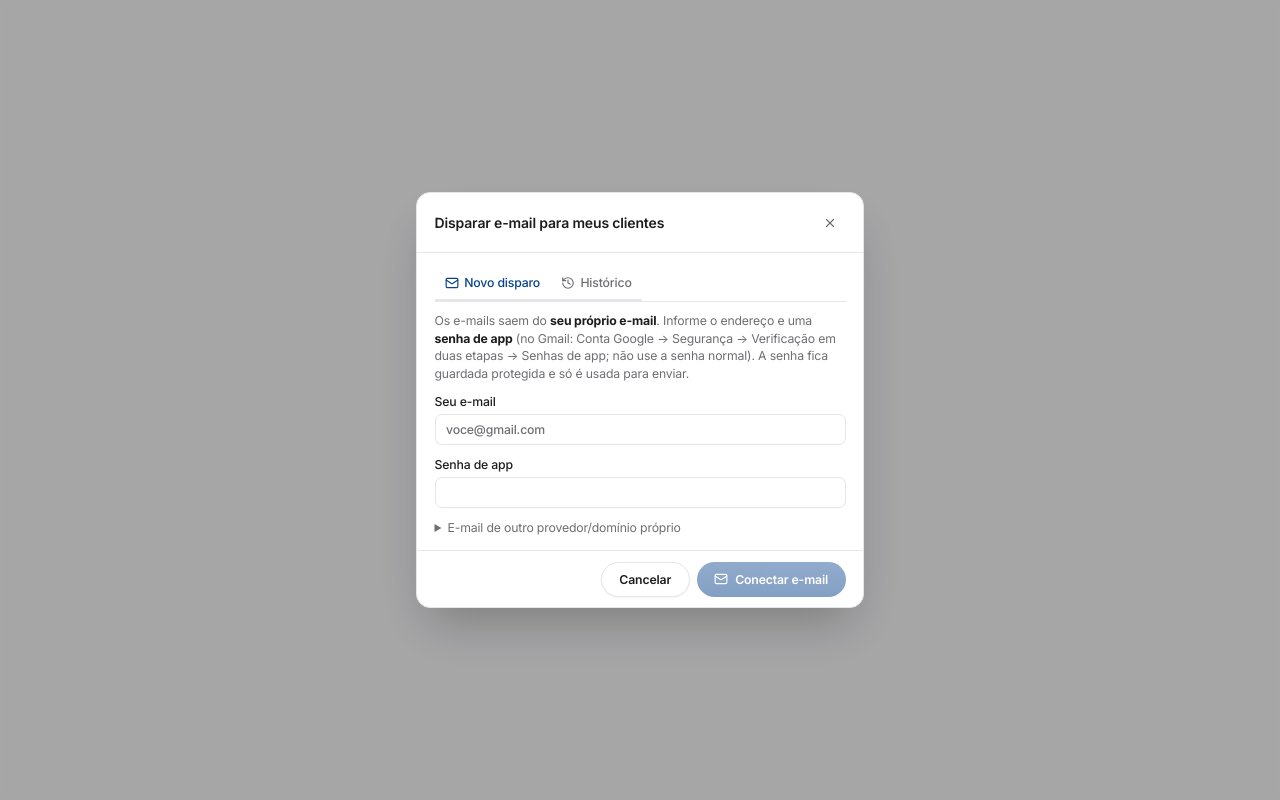
Test: DisparoEmailDialog › sem e-mail conectado pede o endereço e a senha de app, e conecta
The width and height of the screenshot is (1280, 800).
Type "ana@gmail.com" into the field labelled "Seu e-mail".
click(640, 430); type("ana@gmail.com")  # box [434, 414, 846, 445]
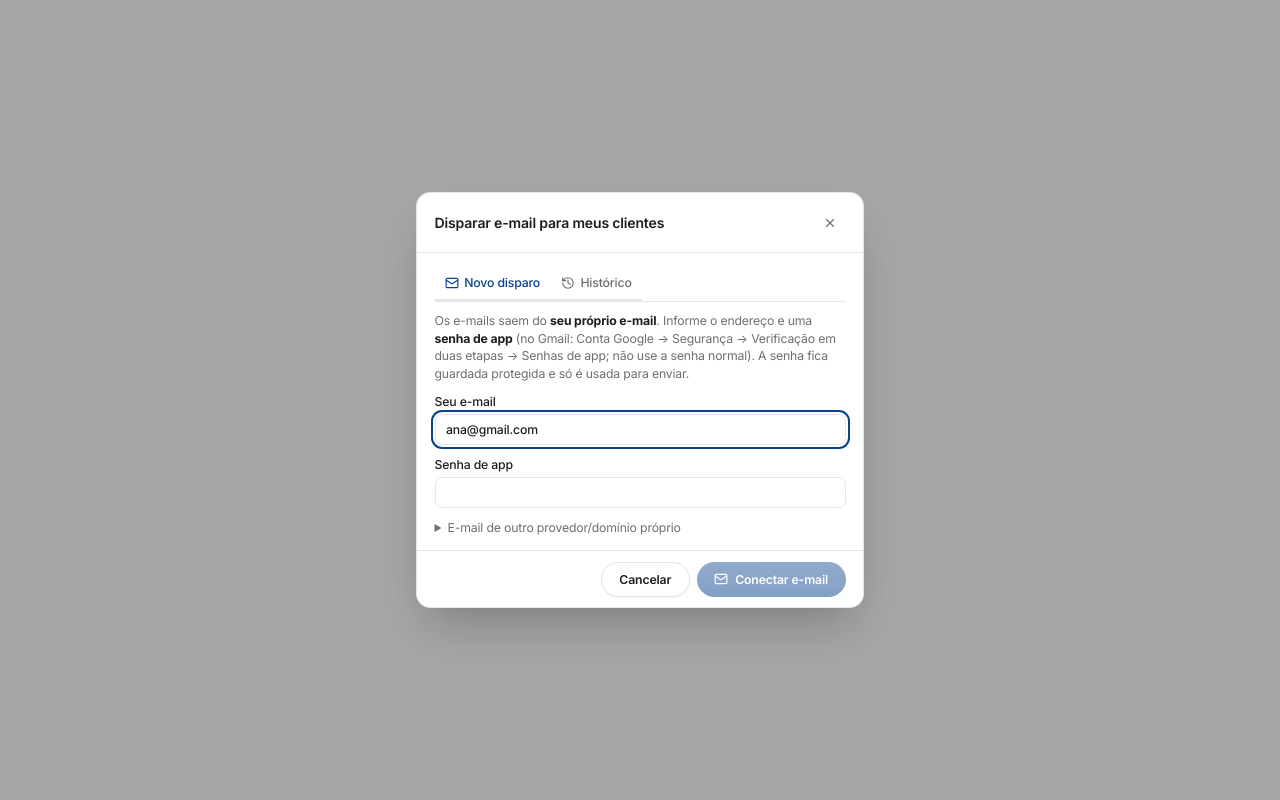
Type "abcd efgh" into the password field labelled "Senha de app".
click(640, 493); type("abcd efgh")  # box [434, 477, 846, 508]
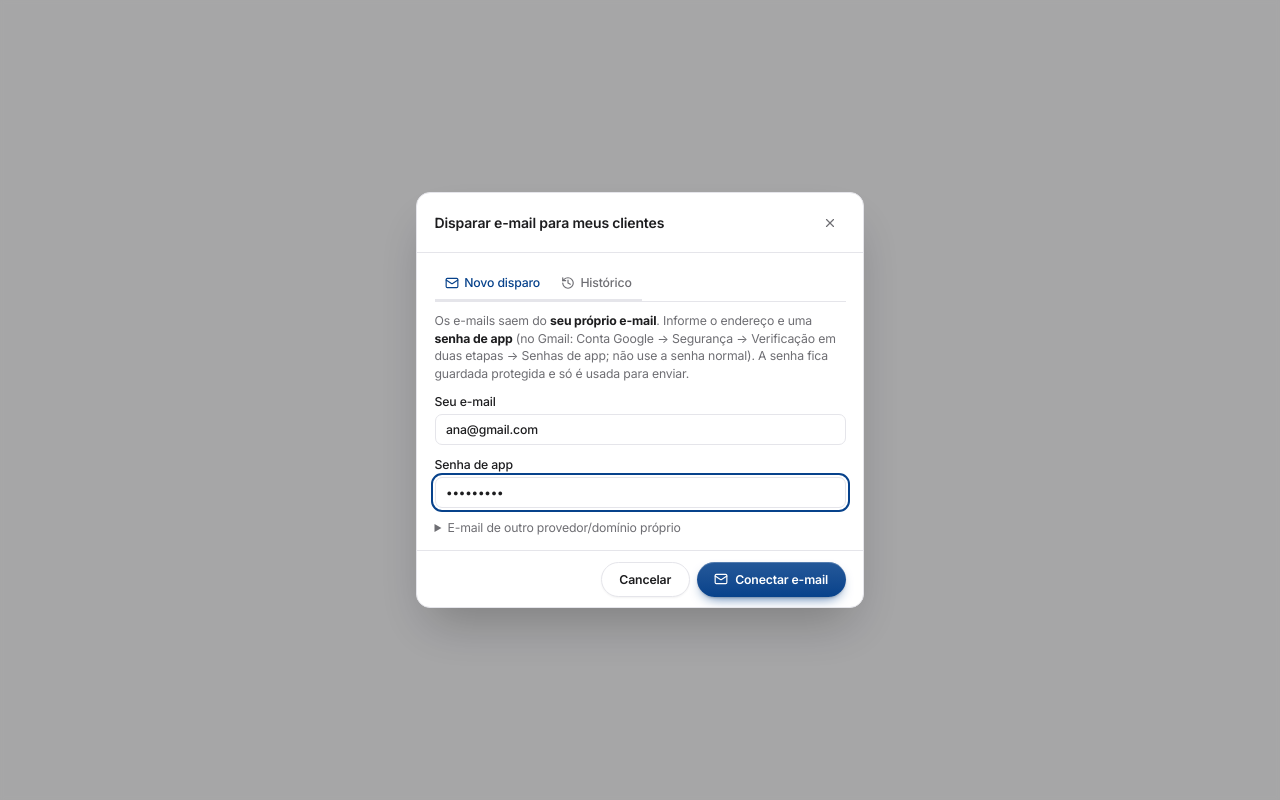
Click the button "Conectar e-mail".
click(771, 579)  # box [697, 562, 846, 597]
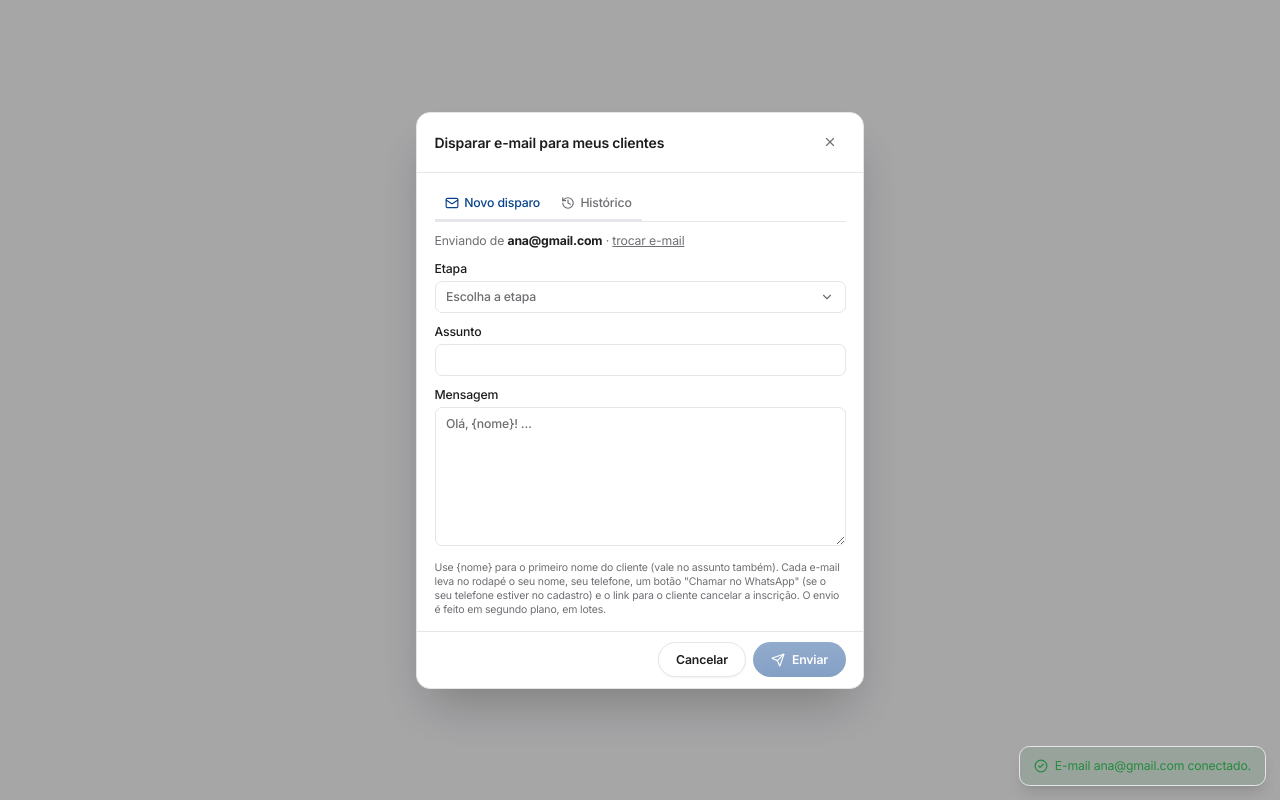
Result: the text "ana@gmail.com" is shown at [507, 233, 602, 248]
